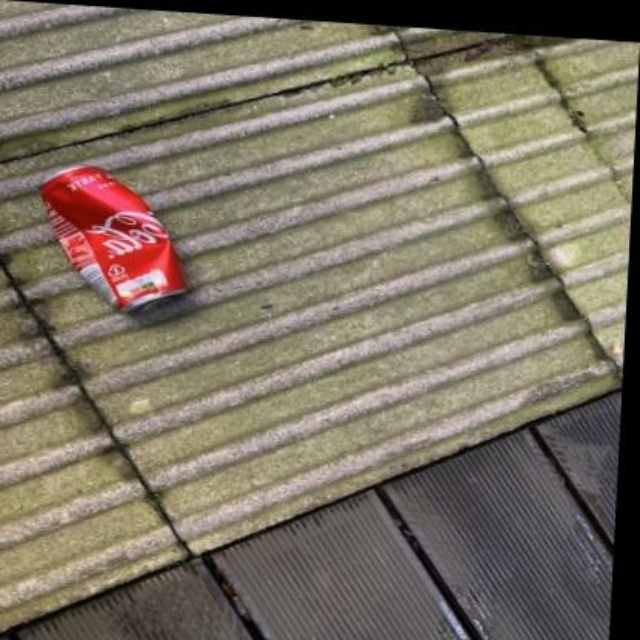trash: (40, 166, 186, 311)
